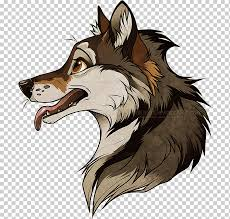Lobo: (20, 1, 218, 203)
